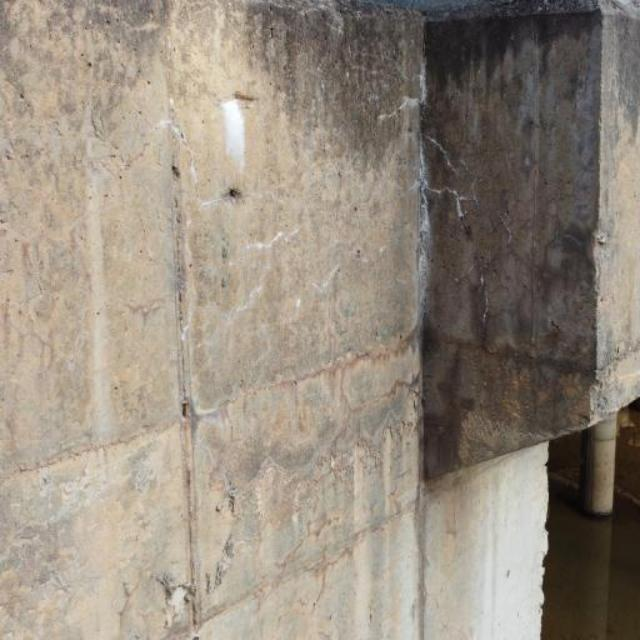D01: (222, 98, 244, 169)
